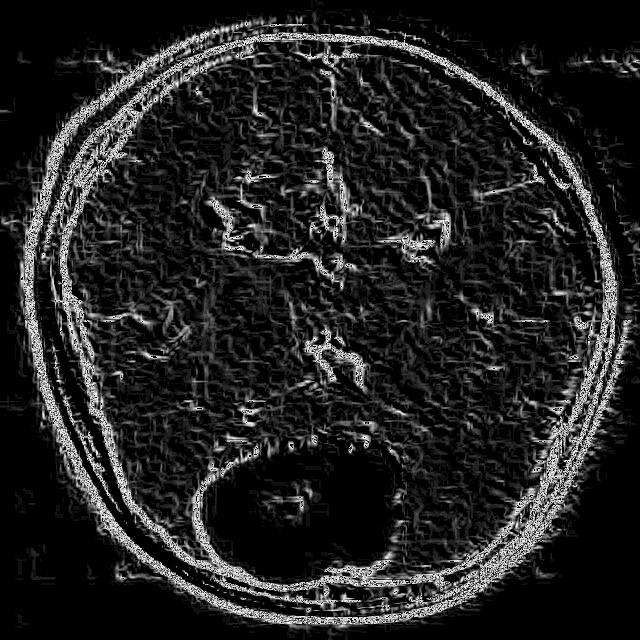Brain-Tumor: (178, 413, 416, 603)
